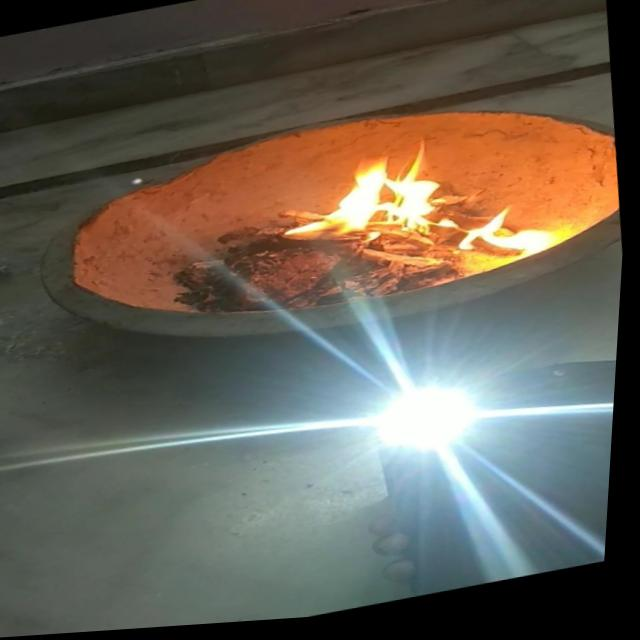fire: (285, 143, 466, 256), (455, 204, 568, 273)
